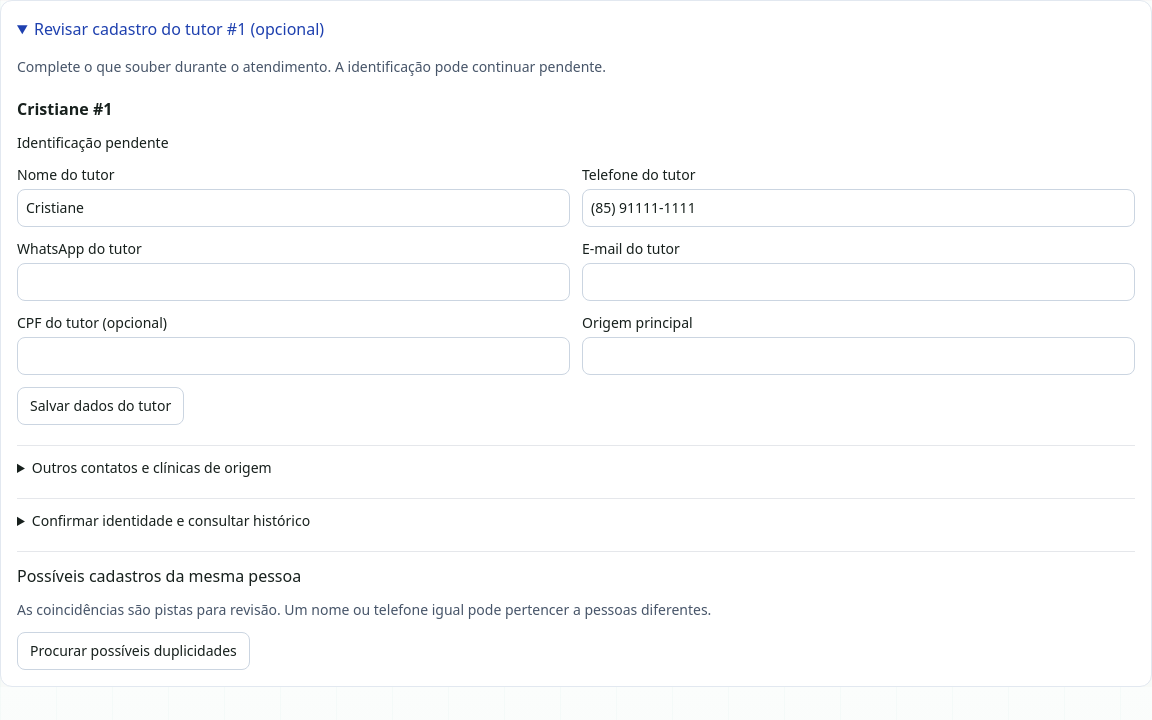
Test: Revisão opcional do tutor durante o atendimento › aguarda atualização assíncrona do atendimento e informa falha de resumo sem repetir a gravação
The width and height of the screenshot is (1152, 720).
Expected: the element named "Complementar dados do tutor" is shown, [17,97,1135,425]
Click the button "Salvar dados do tutor".
click(101, 406)  # box [17,387,184,425]
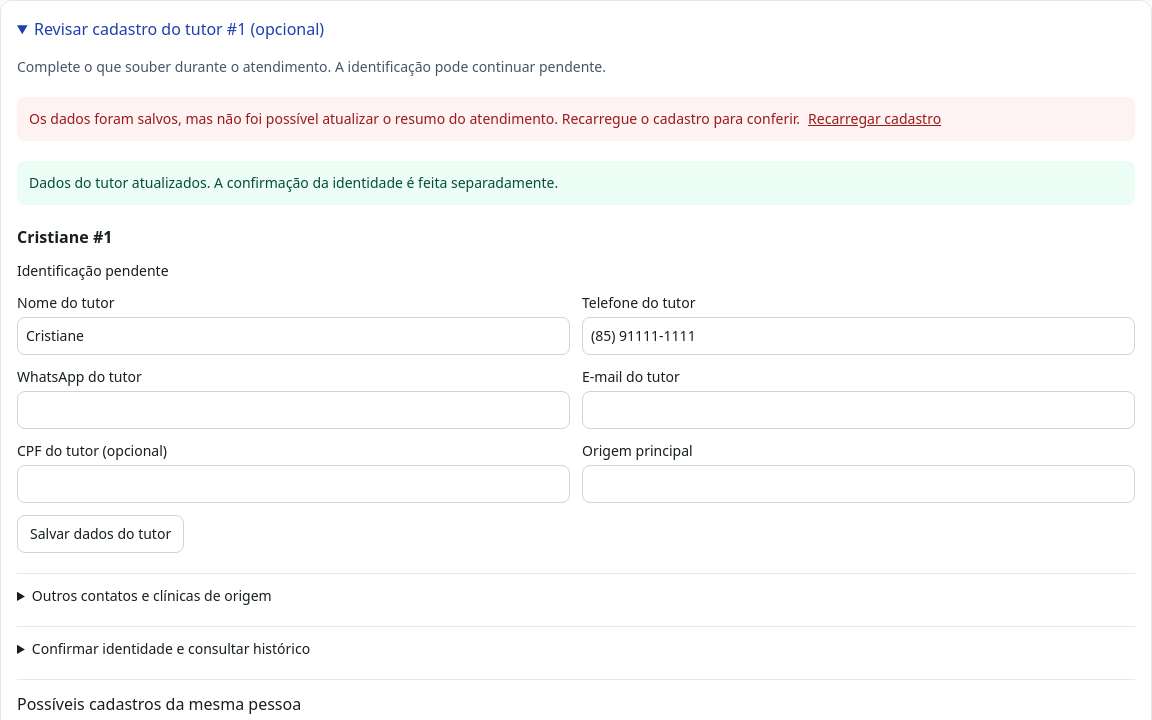
Result: the 1st message shows "Os dados foram salvos, mas não foi possível atualizar o resumo do atendimento" at [29,109,800,128]
